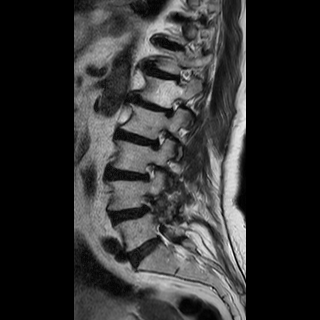LFS1: (145, 124, 172, 155), (136, 157, 162, 186)
